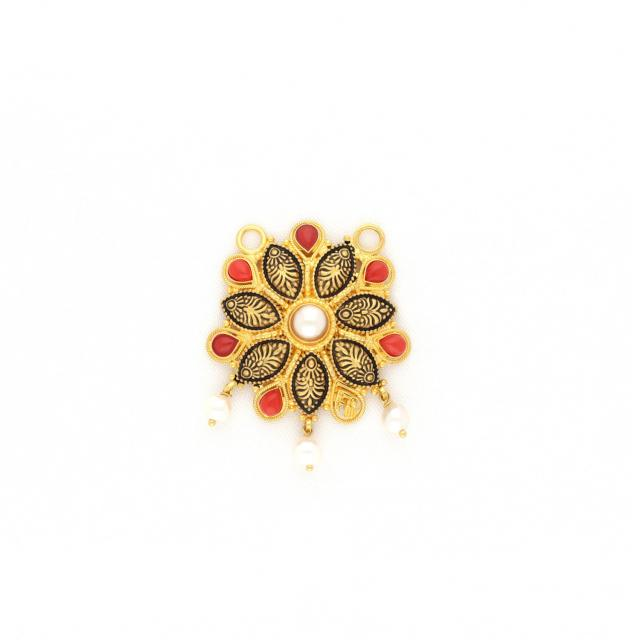missing gem: (291, 305, 328, 342)
